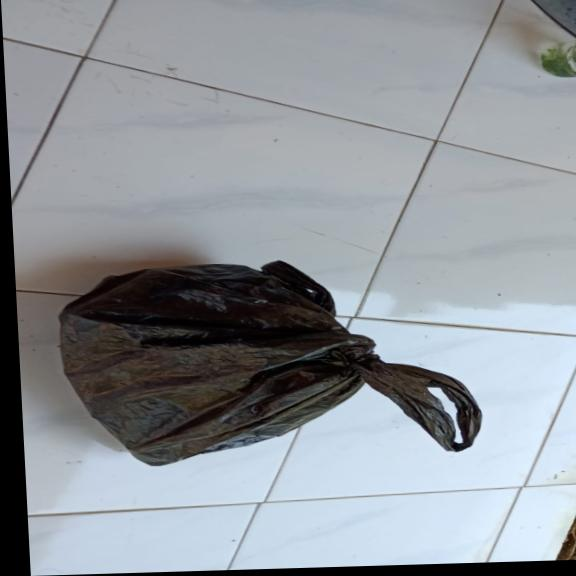Plastik: (51, 254, 482, 469)
